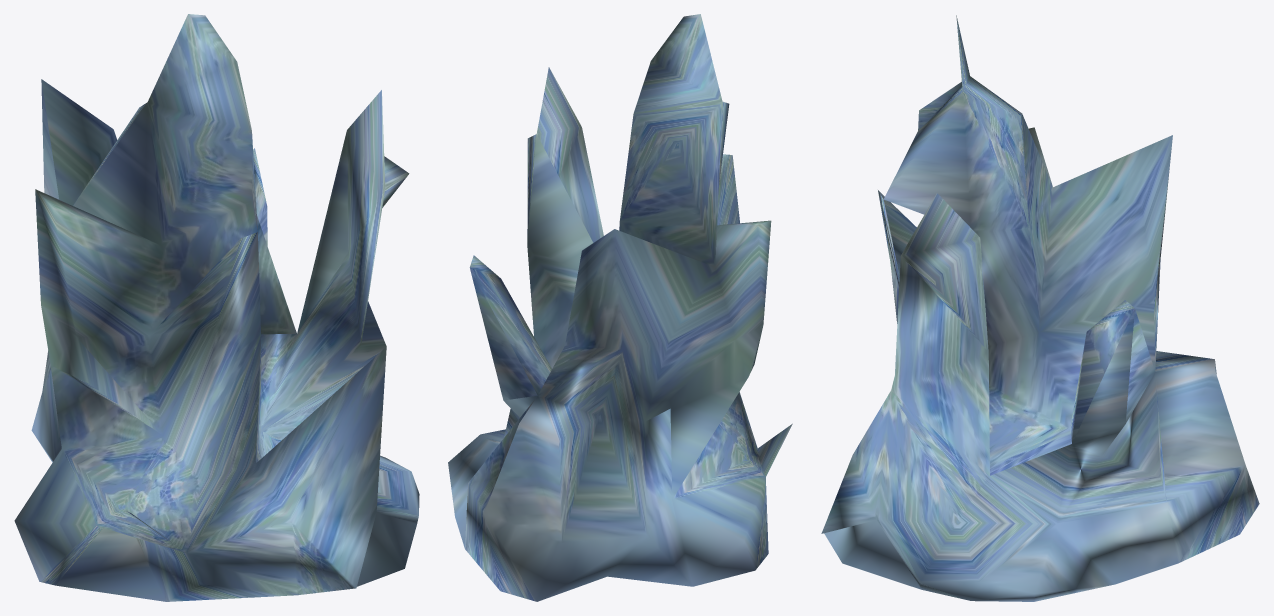
Rendered from snow-ice-crystals-far-DwValjzk.glb.
The picture shows the model from 3 angles, left to right: view 1: azimuth 30°, elevation 25°; view 2: azimuth 150°, elevation 25°; view 3: azimuth 270°, elevation 25°; orthographic projection. The views are drawn at different scales.
Visible parts, largest first — view 1: tripo_node_26559423-ffff-4586-9fb5-6fa1066370b4; view 2: tripo_node_26559423-ffff-4586-9fb5-6fa1066370b4; view 3: tripo_node_26559423-ffff-4586-9fb5-6fa1066370b4.
Part boxes in pixels (<box>): tripo_node_26559423-ffff-4586-9fb5-6fa1066370b4: <box>14,14,419,601</box>; tripo_node_26559423-ffff-4586-9fb5-6fa1066370b4: <box>448,14,792,601</box>; tripo_node_26559423-ffff-4586-9fb5-6fa1066370b4: <box>821,15,1259,601</box>.
Bounding box in the file's own units: 0.6228 × 0.9798 × 0.7536.
1 material, 1 textured.
